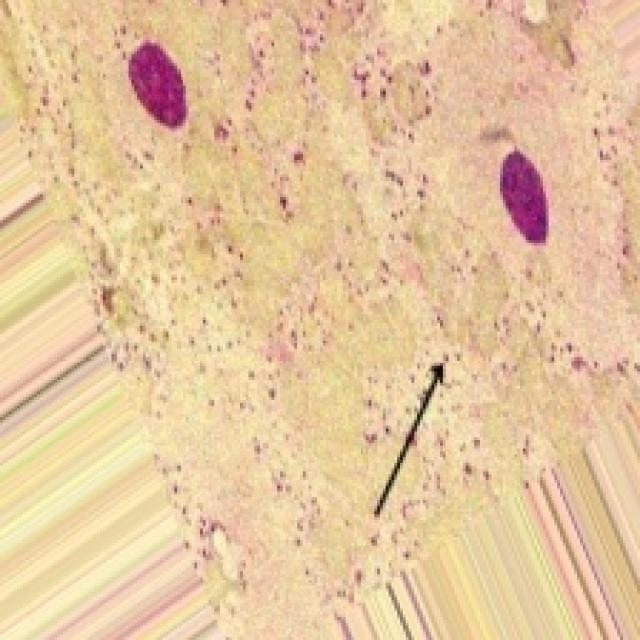Spherical_bacteria: (0, 0, 637, 637), (338, 97, 640, 339), (96, 10, 256, 181)
